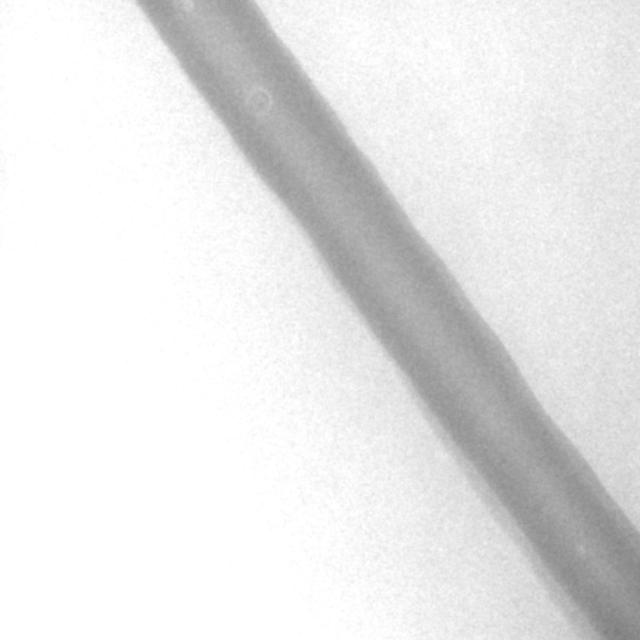air hole: (575, 541, 587, 555)
hollow bead: (242, 86, 272, 120)
